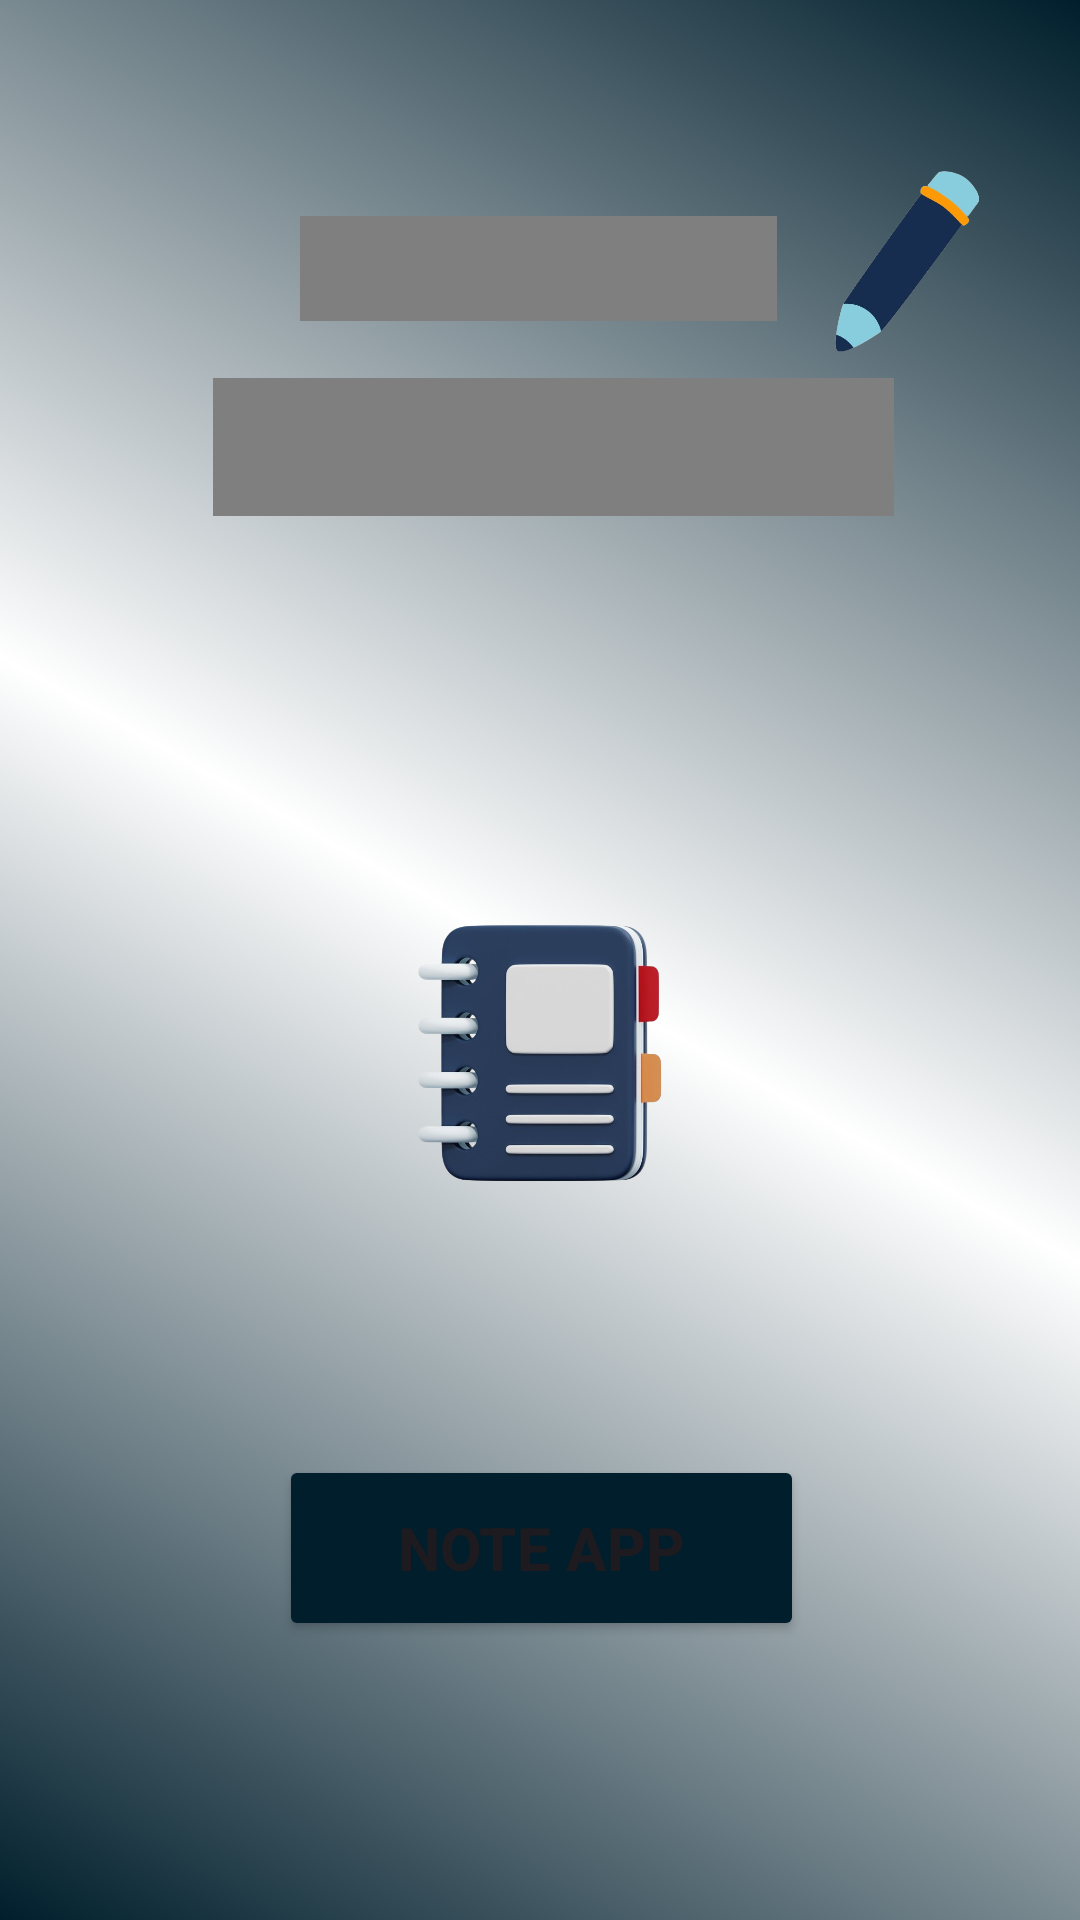

Point at icon controls on the screen. Image size 1080 x 1920, points as (x,y).
notebook: (541,1053)
pen: (901,262)
